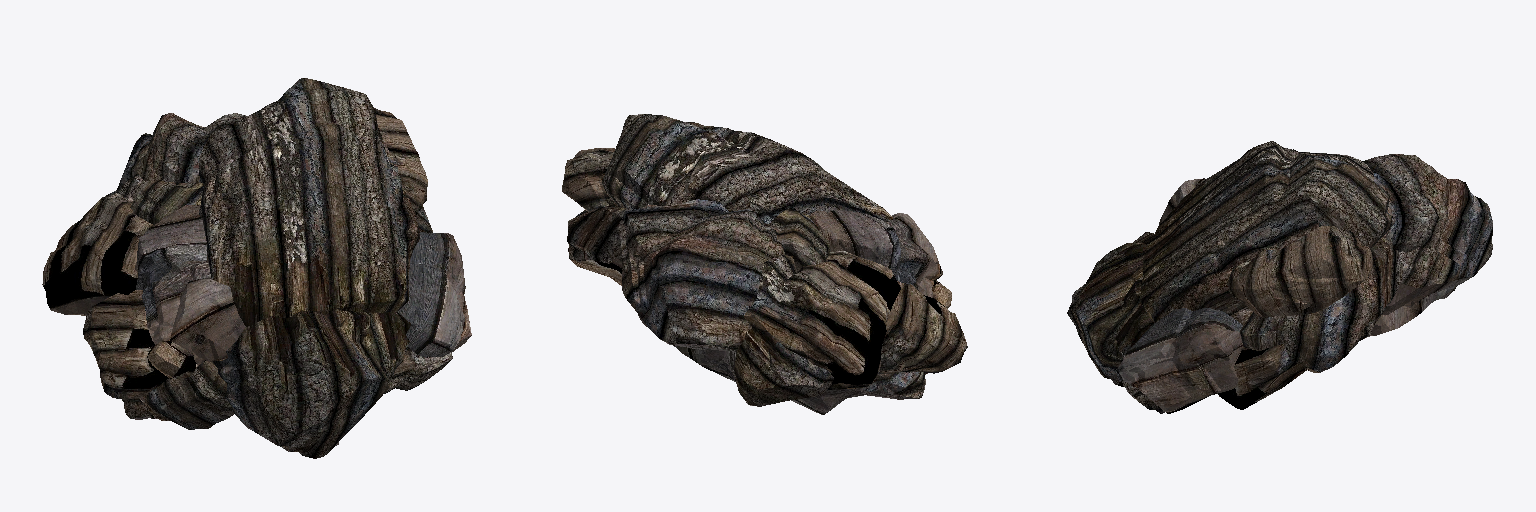
3 views of the same model, side by side, from view 1: azimuth 30°, elevation 25°; view 2: azimuth 150°, elevation 25°; view 3: azimuth 270°, elevation 25° (orthographic).
Parts seen in each view (by area): view 1: node_id4; view 2: node_id4; view 3: node_id4.
Boxes of the visible parts, <box> form: node_id4: <box>42,78,471,458</box>; node_id4: <box>562,114,967,414</box>; node_id4: <box>1067,141,1492,413</box>.
Bounding box in the file's own units: 14.08 × 10.27 × 14.9.
Materials: 1 (1 with a texture image).